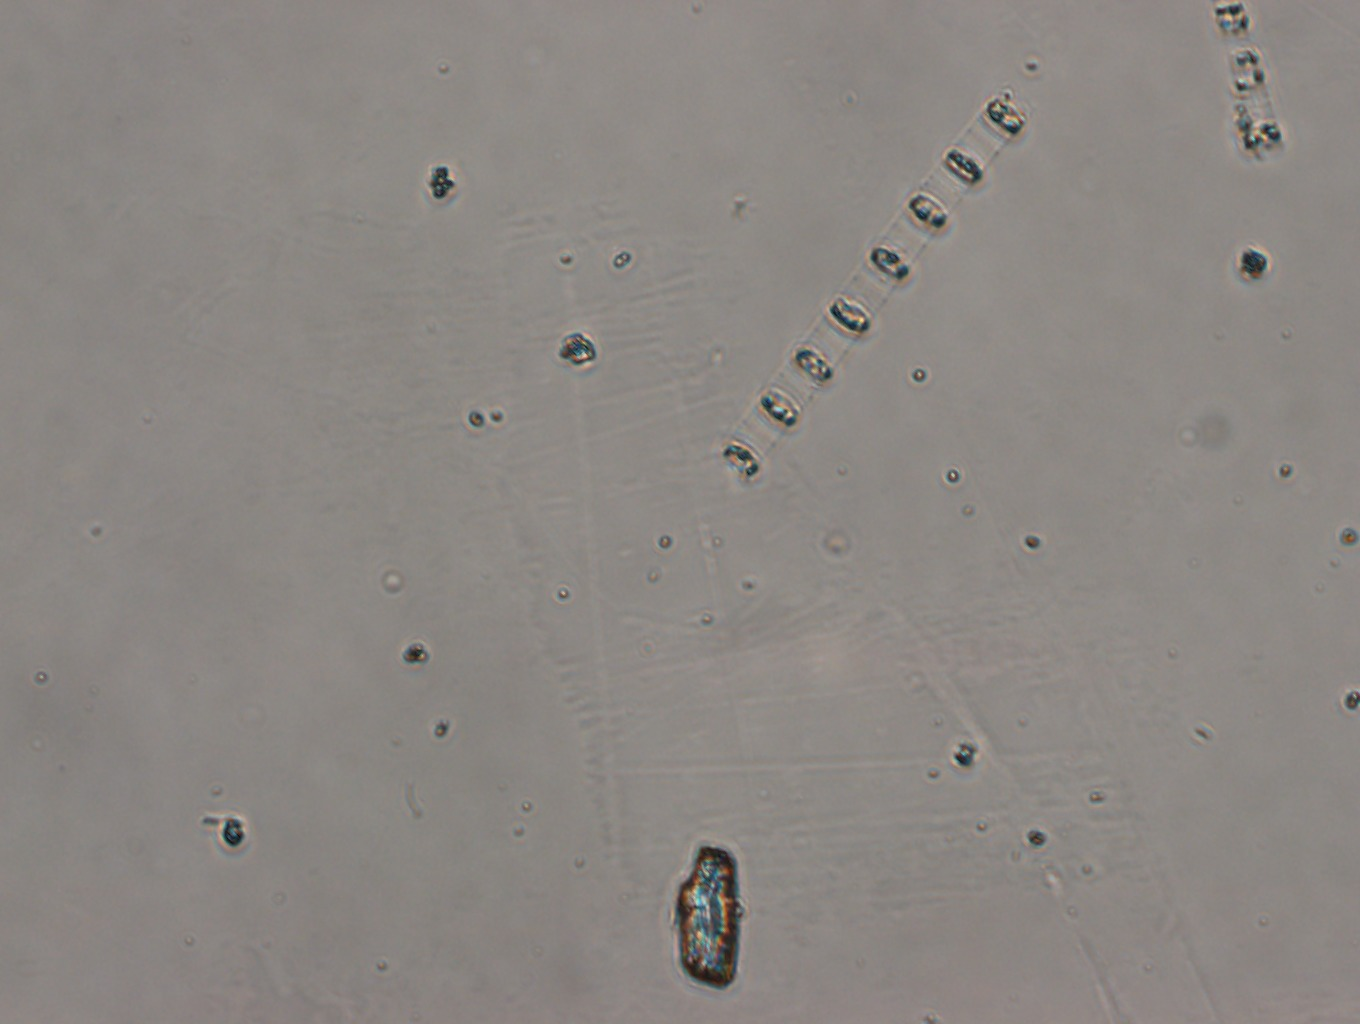skeletonema: (716, 91, 1035, 488), (1209, 1, 1293, 156)
